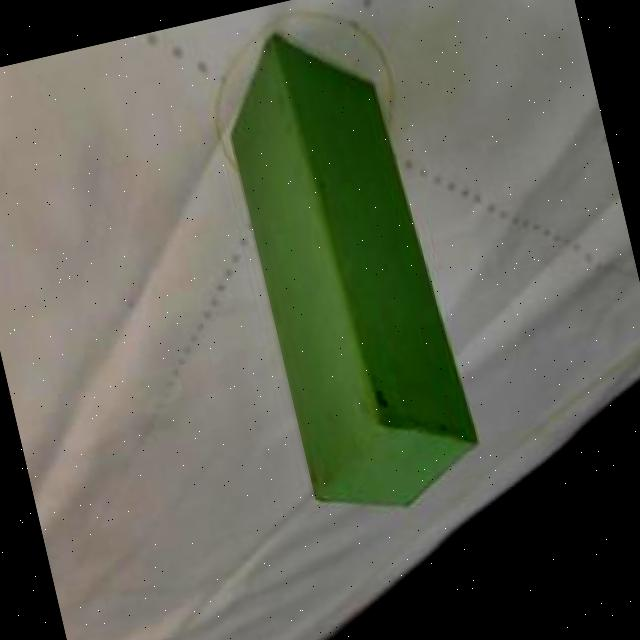greenbox: (208, 8, 484, 529)
